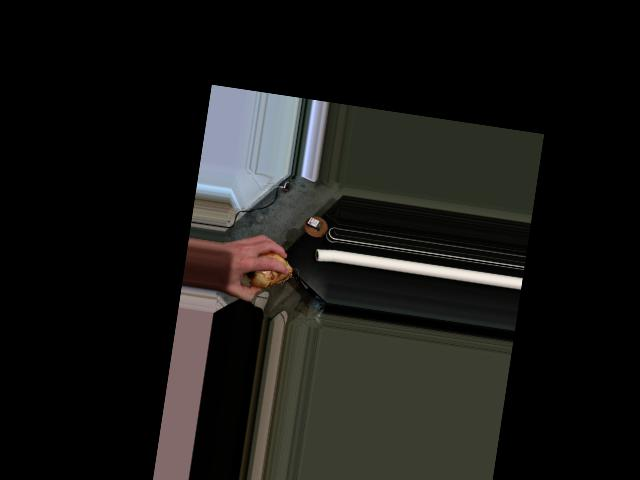onion: (246, 250, 293, 292)
